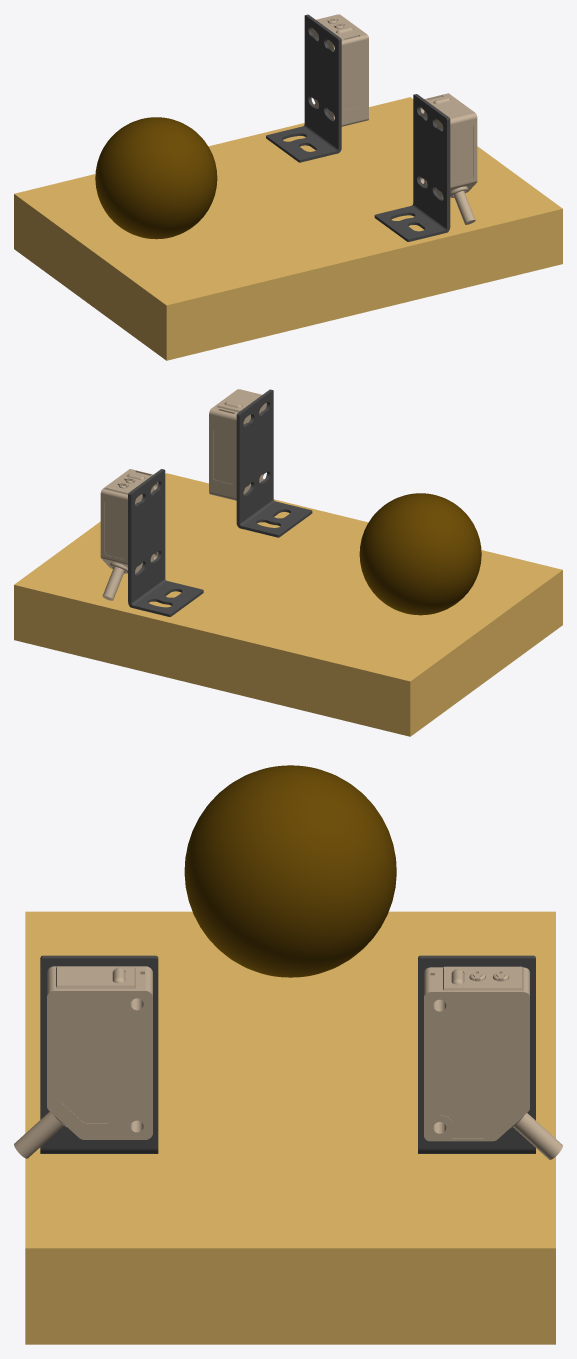
Rendered from sensor_count.glb.
The picture shows the model from 3 angles, top to bottom: view 1: azimuth 30°, elevation 25°; view 2: azimuth 150°, elevation 25°; view 3: azimuth 270°, elevation 25°; orthographic projection. The views are drawn at different scales.
Parts seen in each view (by area): view 1: Table, Work, receive_mout, emit_mount, emit, receive; view 2: Table, Work, emit_mount, receive_mout, receive, emit; view 3: Table, Work, receive, emit, emit_mount, receive_mout.
Boxes of the visible parts, left/top/right/bottom form: Table: left=14, top=97, right=562, bottom=360; Work: left=95, top=117, right=217, bottom=239; receive_mout: left=266, top=14, right=341, bottom=162; emit_mount: left=374, top=94, right=450, bottom=241; emit: left=420, top=93, right=477, bottom=224; receive: left=311, top=14, right=368, bottom=126; Table: left=14, top=473, right=562, bottom=736; Work: left=359, top=493, right=481, bottom=615; emit_mount: left=236, top=389, right=312, bottom=537; receive_mout: left=128, top=469, right=203, bottom=616; receive: left=100, top=469, right=158, bottom=600; emit: left=209, top=389, right=266, bottom=500; Table: left=25, top=911, right=555, bottom=1344; Work: left=184, top=765, right=396, bottom=977; receive: left=424, top=966, right=562, bottom=1159; emit: left=14, top=966, right=152, bottom=1158; emit_mount: left=40, top=955, right=158, bottom=1153; receive_mout: left=418, top=955, right=535, bottom=1153.
Size of the model in its own units: 0.15 by 0.0611 by 0.1034.
